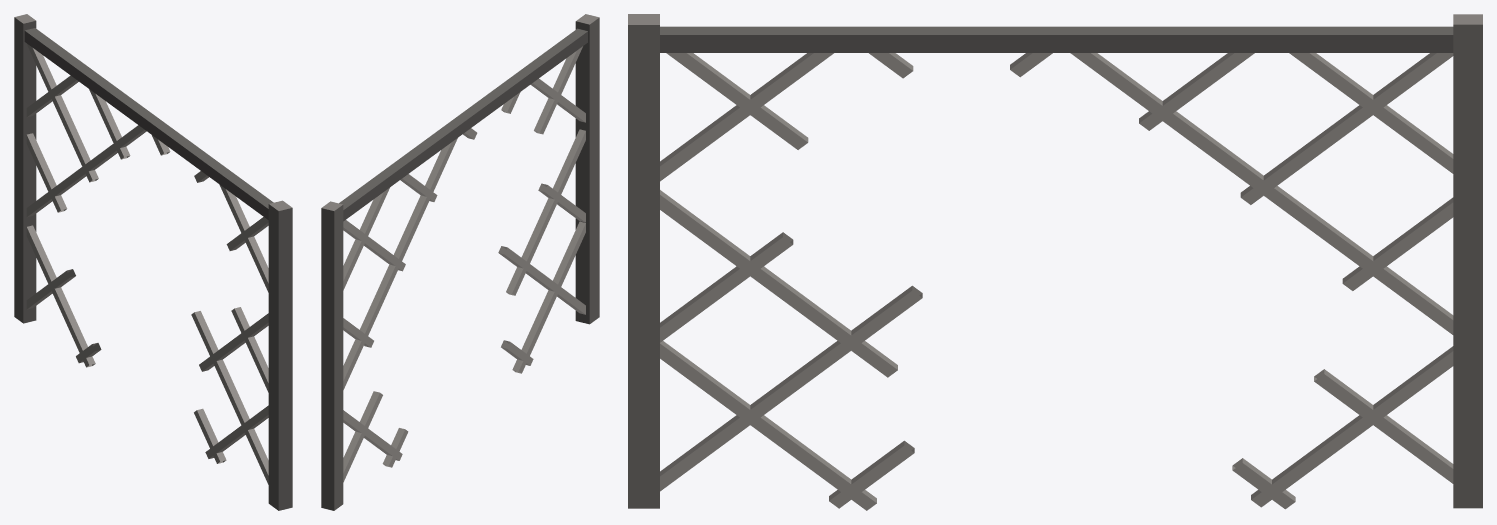
Rendered from Fence_Wire_Damaged_01.fbx.
3 views of the same model, side by side, from view 1: azimuth 30°, elevation 25°; view 2: azimuth 150°, elevation 25°; view 3: azimuth 270°, elevation 25° (orthographic). The views are drawn at different scales.
Visible parts, largest first — view 1: Fence_Wire_Damaged_01; view 2: Fence_Wire_Damaged_01; view 3: Fence_Wire_Damaged_01.
Boxes of the visible parts, left/top/right/bottom form: Fence_Wire_Damaged_01: left=14, top=14, right=292, bottom=510; Fence_Wire_Damaged_01: left=321, top=14, right=599, bottom=510; Fence_Wire_Damaged_01: left=628, top=14, right=1482, bottom=510.
Size of the model in its own units: 0.1501 by 4.93 by 3.11.
